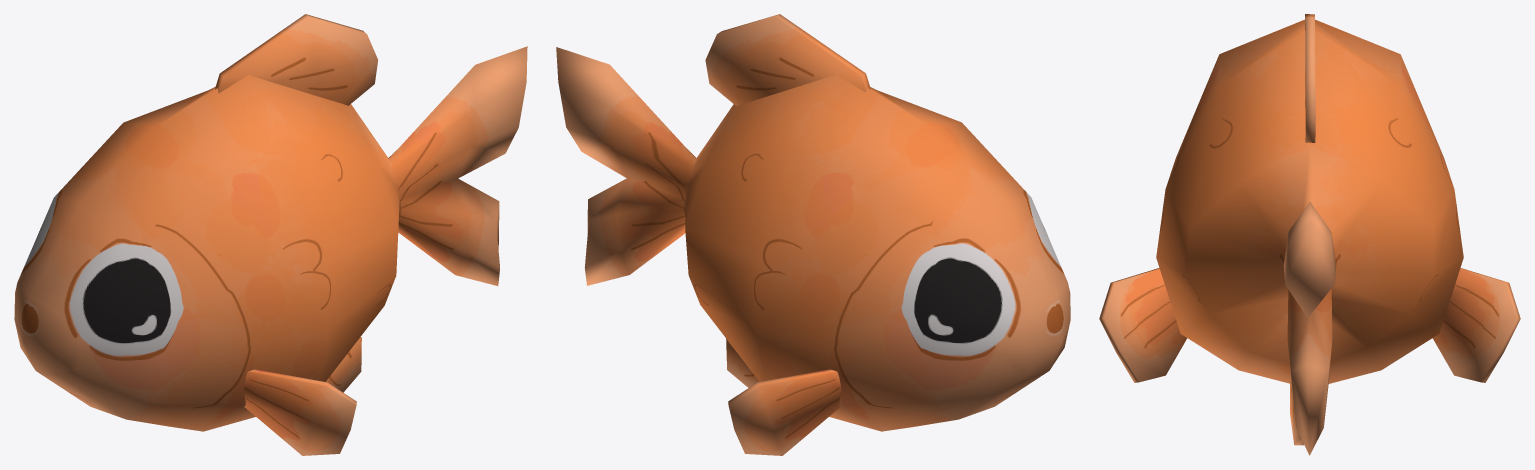
File: Goldfish.fbx
3 renders of one model, left to right at view 1: azimuth 30°, elevation 25°; view 2: azimuth 150°, elevation 25°; view 3: azimuth 270°, elevation 25°, orthographic. The views are drawn at different scales.
Visible parts, largest first — view 1: Goldfish; view 2: Goldfish; view 3: Goldfish.
Part boxes in pixels (x1,y1,x2,y2): Goldfish: (14, 14, 527, 455); Goldfish: (556, 14, 1070, 455); Goldfish: (1099, 14, 1520, 455).
Size of the model in its own units: 54.45 by 40.71 by 36.88.
